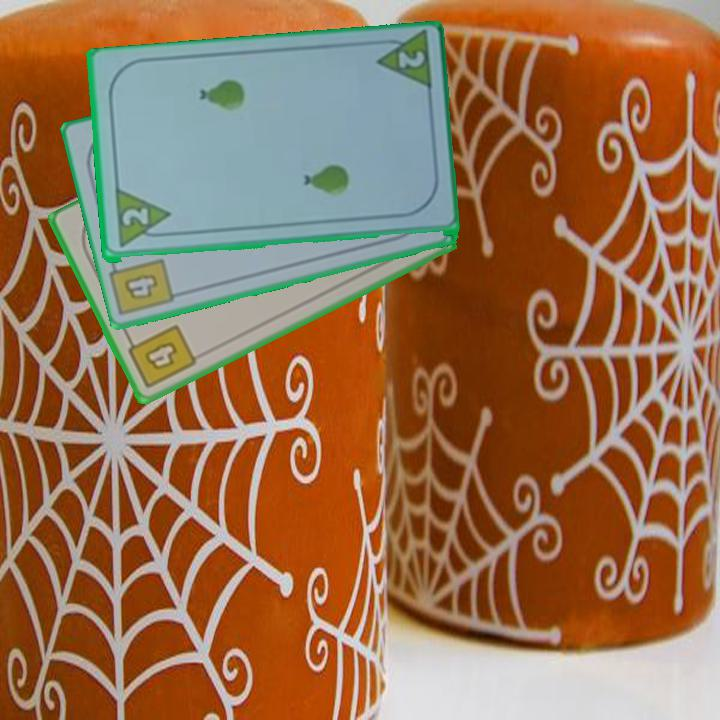2p: (370, 31, 434, 96), (118, 205, 151, 231)
4b: (122, 321, 200, 392), (120, 270, 161, 304)
